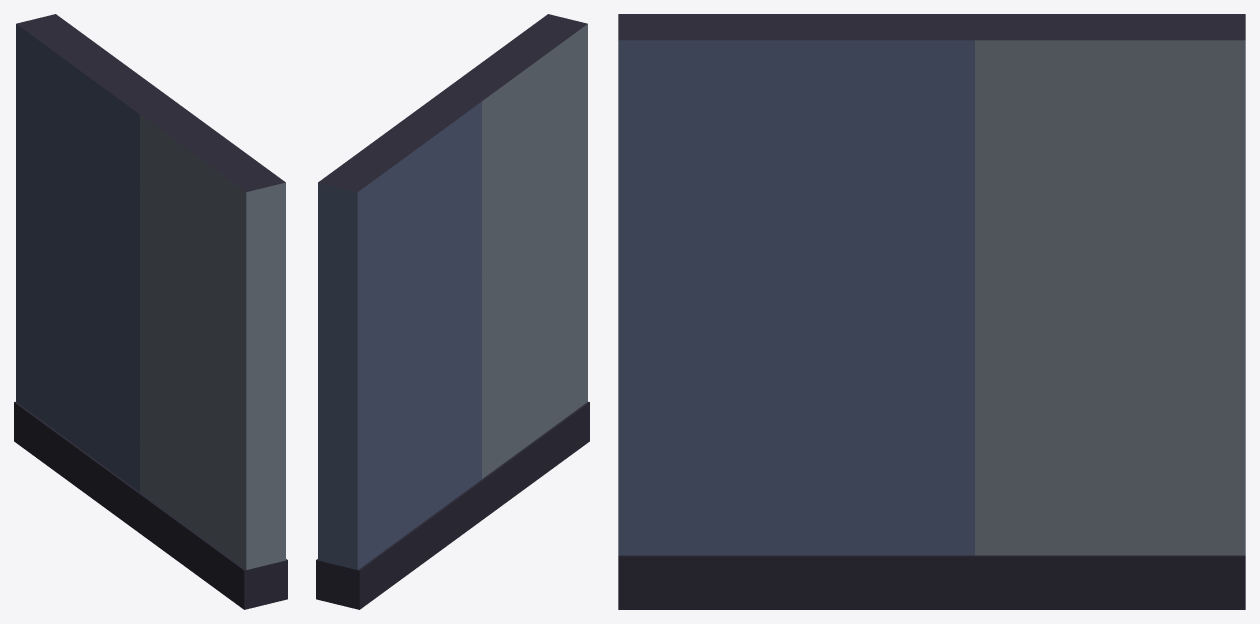
Rendered from internal_wall.glb.
The picture shows the model from 3 angles, left to right: view 1: azimuth 30°, elevation 25°; view 2: azimuth 150°, elevation 25°; view 3: azimuth 270°, elevation 25°; orthographic projection. The views are drawn at different scales.
Parts seen in each view (by area): view 1: InternalWall; view 2: InternalWall; view 3: InternalWall.
Boxes of the visible parts, <box> form: InternalWall: <box>14,14,287,609</box>; InternalWall: <box>316,14,589,609</box>; InternalWall: <box>618,14,1245,609</box>.
Size of the model in its own units: 0.2731 by 2.5 by 2.5.
Materials: 1 (1 with a texture image).
